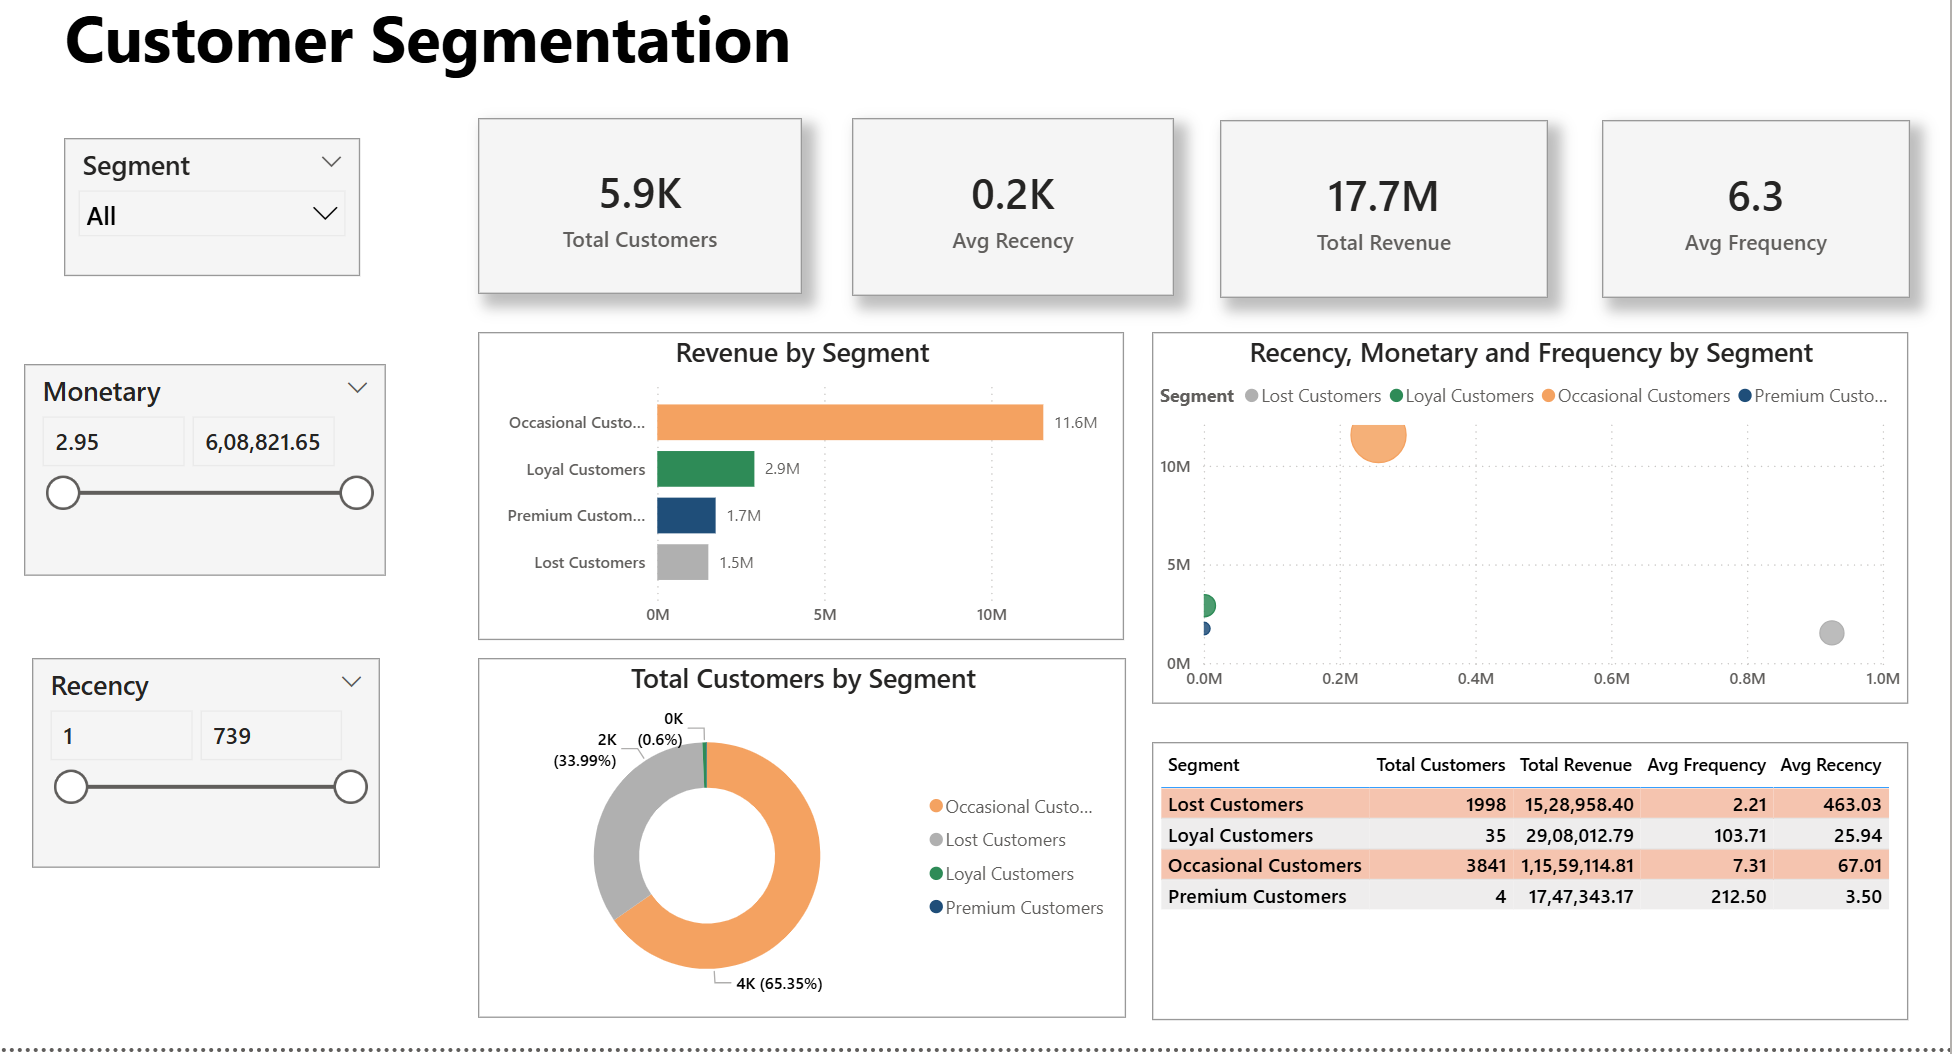

Layout of this report page (visuals, bound fields, positions):
{"tool":"powerbi","page":{"name":"Page 1","canvas":[1500,800],"ordinal":0},"visuals":[{"type":"card","fields":{"Values":["Sheet1.Total Customers"]},"box":[391.6,99.4,244,132.5],"z":0},{"type":"card","fields":{"Values":["Sheet1.Total Revenue"]},"box":[950.3,100.9,247,134],"z":1},{"type":"card","fields":{"Values":["Sheet1.Avg Frequency"]},"box":[1238,100.9,231.9,134],"z":2},{"type":"card","fields":{"Values":["Sheet1.Avg Recency"]},"box":[673.2,99.4,242.5,134],"z":3},{"type":"donutChart","fields":{"Y":["Sheet1.Total Customers"],"Category":["Sheet1.Segment"]},"box":[391.6,506,488,271.1],"z":4},{"type":"clusteredBarChart","title":"Revenue by Segment","fields":{"Y":["Sheet1.Total Revenue"],"Category":["Sheet1.Segment"]},"box":[391.6,260.5,486.4,231.9],"z":5},{"type":"scatterChart","title":"Recency, Monetary and Frequency by Segment","fields":{"X":["Sum(Sheet1.Recency)"],"Y":["Sum(Sheet1.Monetary)"],"Size":["Sum(Sheet1.Frequency)"],"Series":["Sheet1.Segment"]},"box":[899.1,260.5,569.3,280.1],"z":6},{"type":"tableEx","fields":{"Values":["Sheet1.Segment","Sheet1.Total Customers","Sheet1.Total Revenue","Sheet1.Avg Frequency","Sheet1.Avg Recency"]},"box":[899.1,569.3,569.3,209.3],"z":7},{"type":"slicer","fields":{"Values":["Sheet1.Segment"]},"box":[79.8,114.5,222.9,103.9],"z":8},{"type":"slicer","fields":{"Values":["Sheet1.Recency"]},"box":[55.7,506,262,158.1],"z":9},{"type":"slicer","fields":{"Values":["Sheet1.Monetary"]},"box":[49.7,284.6,272.6,159.6],"z":10},{"type":"textbox","box":[75.3,0,597.9,85.8],"z":11}]}

Visuals, with their boxes in screenshot pixels (x1, y1, x2, y2), scaled from the page's 1500x800 canvas onto the 1952x1054 screenshot:
card - Sheet1.Total Customers: (x1=510, y1=131, x2=827, y2=306)
card - Sheet1.Total Revenue: (x1=1237, y1=133, x2=1558, y2=309)
card - Sheet1.Avg Frequency: (x1=1611, y1=133, x2=1913, y2=309)
card - Sheet1.Avg Recency: (x1=876, y1=131, x2=1192, y2=308)
donutChart - Sheet1.Total Customers x Sheet1.Segment: (x1=510, y1=667, x2=1145, y2=1024)
"Revenue by Segment" clusteredBarChart: (x1=510, y1=343, x2=1143, y2=649)
"Recency, Monetary and Frequency by Segment" scatterChart: (x1=1170, y1=343, x2=1911, y2=712)
tableEx - Sheet1.Segment x Sheet1.Total Customers: (x1=1170, y1=750, x2=1911, y2=1026)
slicer - Sheet1.Segment: (x1=104, y1=151, x2=394, y2=288)
slicer - Sheet1.Recency: (x1=72, y1=667, x2=413, y2=875)
slicer - Sheet1.Monetary: (x1=65, y1=375, x2=419, y2=585)
textbox: (x1=98, y1=0, x2=876, y2=113)
